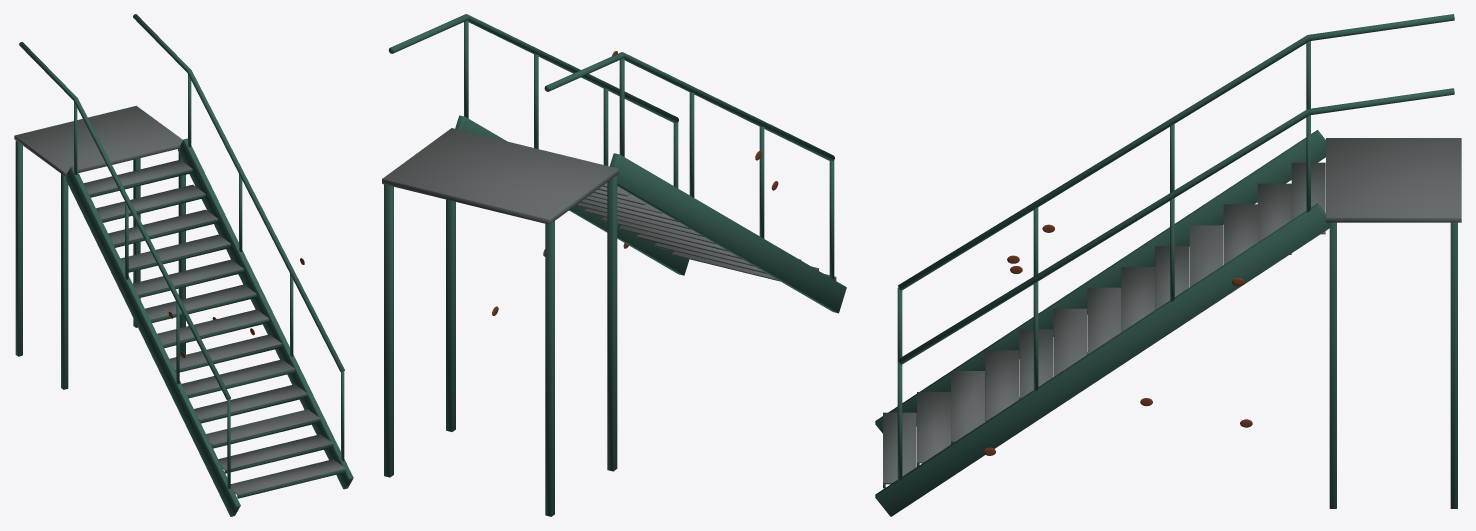
File: cau_thang_213_293_110.glb
3 renders of one model, left to right at view 1: azimuth 30°, elevation 25°; view 2: azimuth 150°, elevation 25°; view 3: azimuth 270°, elevation 25°, orthographic. The views are drawn at different scales.
Visible parts, largest first — view 1: cau_thang_213_293_110; view 2: cau_thang_213_293_110; view 3: cau_thang_213_293_110.
Part boxes in pixels (x1,y1,x2,y2): cau_thang_213_293_110: [14, 14, 353, 516]; cau_thang_213_293_110: [382, 14, 846, 516]; cau_thang_213_293_110: [875, 14, 1461, 516].
Size of the model in its own units: 1.25 by 3.12 by 3.88.
